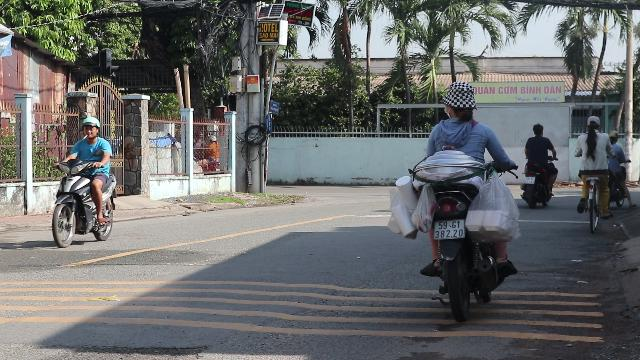helmet: (80, 116, 100, 138)
licenseplate: (434, 220, 464, 238)
motorcyclist: (384, 76, 522, 314), (49, 114, 120, 248)
nohelmet: (441, 80, 477, 120)
